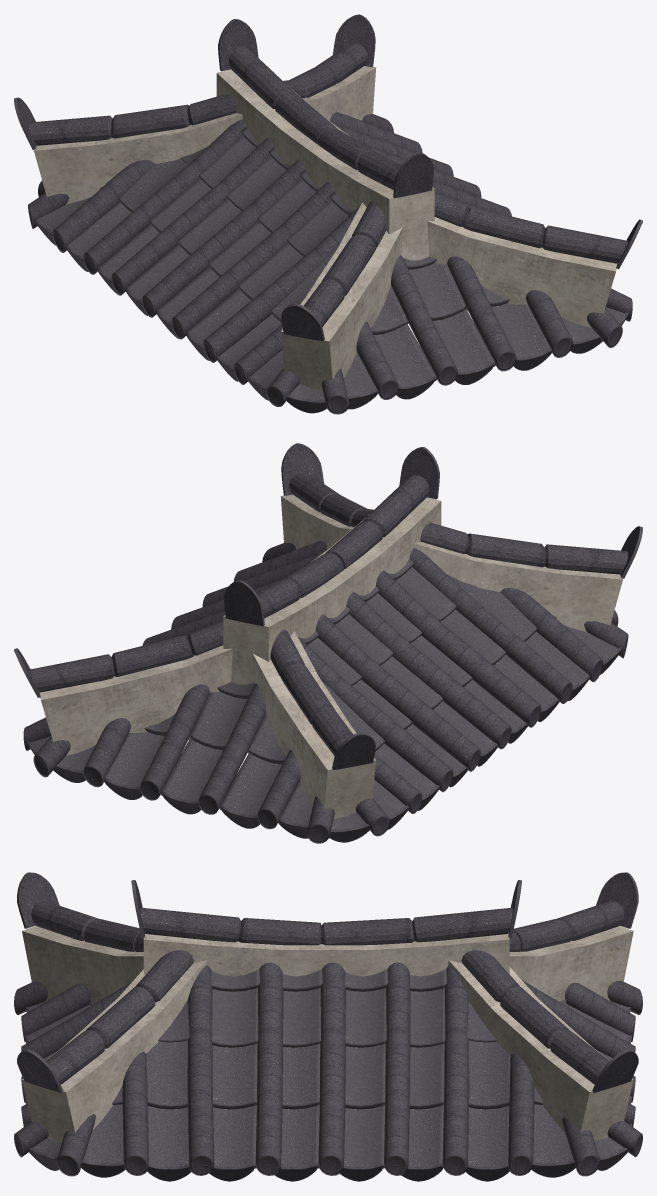
File: SM_Roof_43.fbx
3 views of the same model, one above another, from view 1: azimuth 30°, elevation 25°; view 2: azimuth 150°, elevation 25°; view 3: azimuth 270°, elevation 25° (orthographic). The views are drawn at different scales.
Parts seen in each view (by area): view 1: SM_Roof_43; view 2: SM_Roof_43; view 3: SM_Roof_43.
Part boxes in pixels (<box>): SM_Roof_43: <box>14,14,642,414</box>; SM_Roof_43: <box>14,443,642,843</box>; SM_Roof_43: <box>14,872,642,1181</box>.
Bounding box in the file's own units: 264 × 374 × 139.
2 materials, 2 textured.
